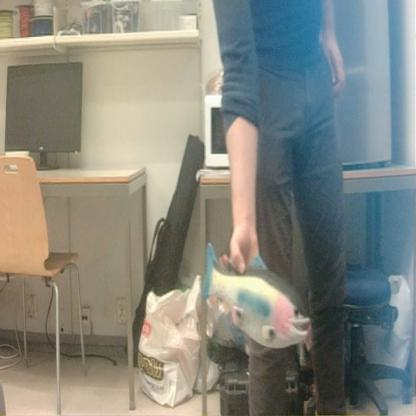rubberfish: (200, 228, 314, 350)
